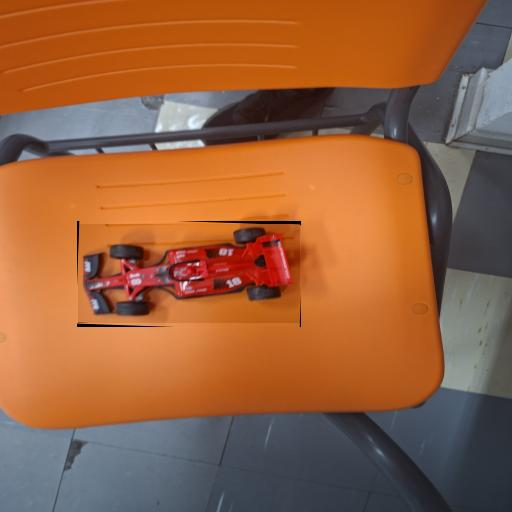carro: (78, 225, 300, 323)
